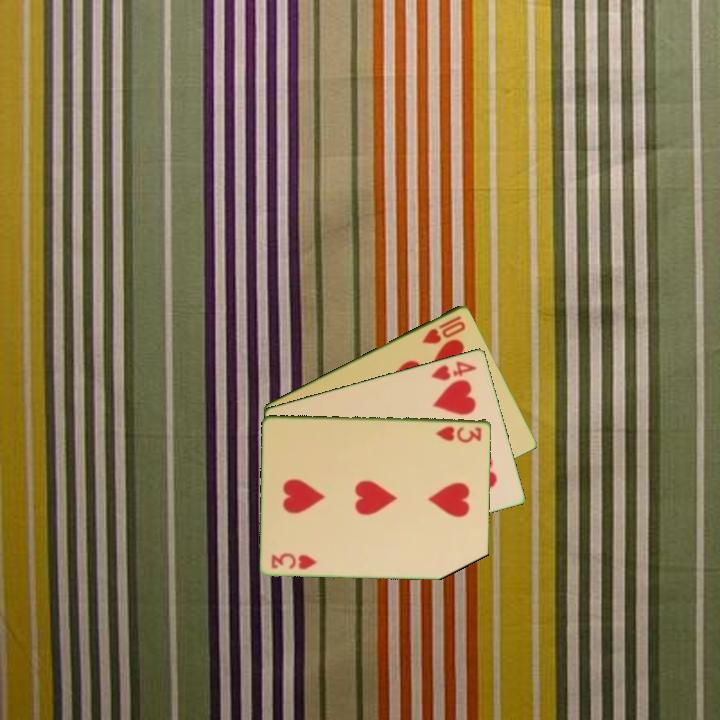10h: (418, 312, 468, 347)
3h: (433, 422, 485, 444), (268, 550, 320, 572)
4h: (428, 357, 480, 383)
